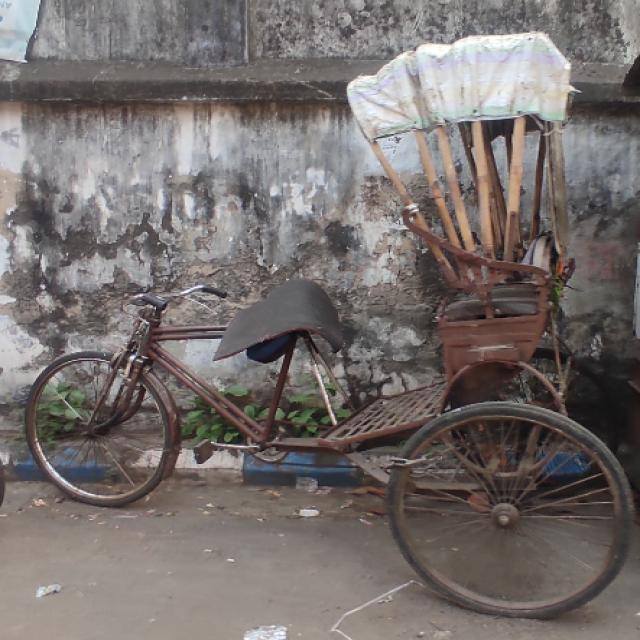rickshaw: (19, 26, 636, 624)
